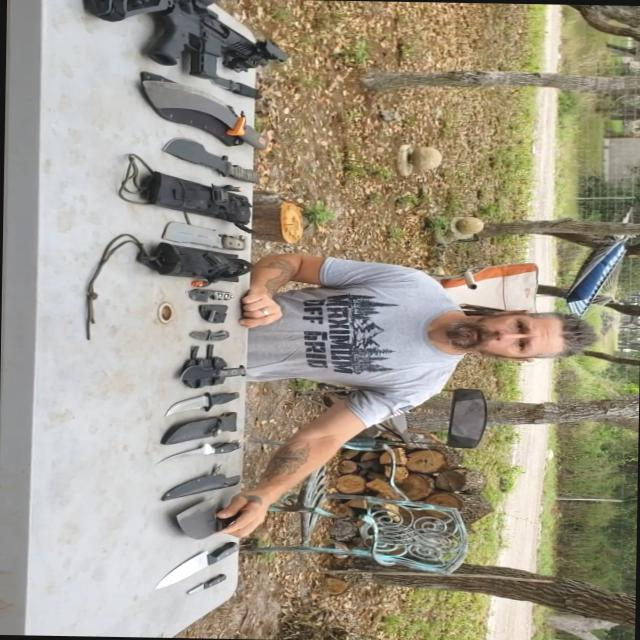knife: (142, 82, 288, 160), (132, 535, 275, 600), (172, 130, 269, 190), (157, 214, 263, 262), (154, 492, 262, 539), (157, 386, 256, 431), (158, 425, 259, 468), (165, 356, 255, 392), (171, 316, 246, 350), (206, 83, 279, 116), (181, 567, 248, 600), (181, 283, 240, 314)
long weapon: (75, 0, 299, 117)
